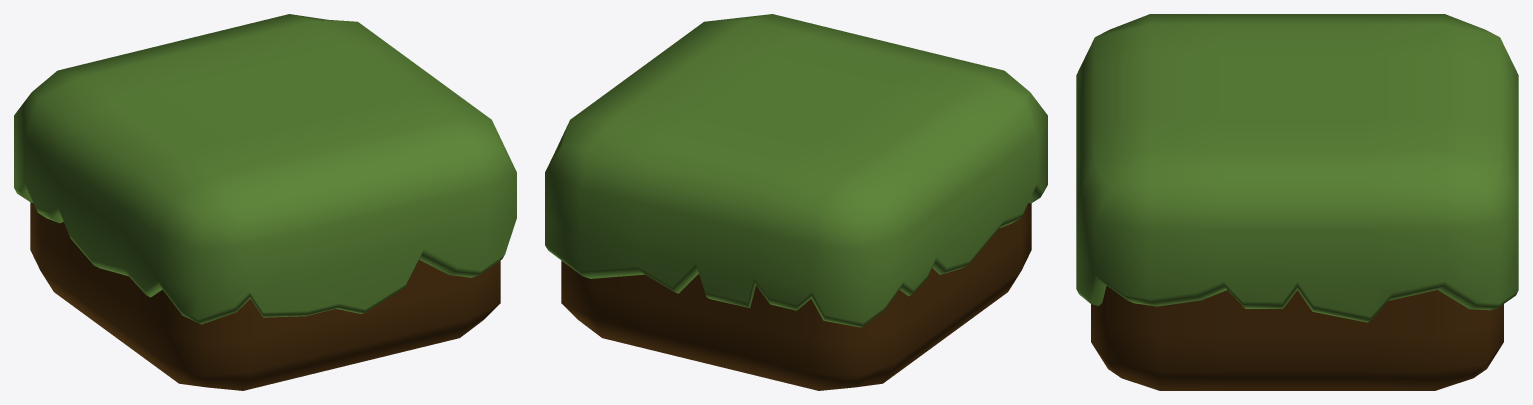
The model's file is art_3dobjects_showroomBlock_temp.fbx.
3 views of the same model, side by side, from view 1: azimuth 30°, elevation 25°; view 2: azimuth 150°, elevation 25°; view 3: azimuth 270°, elevation 25° (orthographic). The views are drawn at different scales.
Visible parts, largest first — view 1: block; view 2: block; view 3: block.
Boxes of the visible parts, <box> form: block: <box>14,14,516,390</box>; block: <box>545,14,1047,390</box>; block: <box>1076,14,1518,390</box>.
Bounding box in the file's own units: 24.5 × 14.24 × 24.5.
